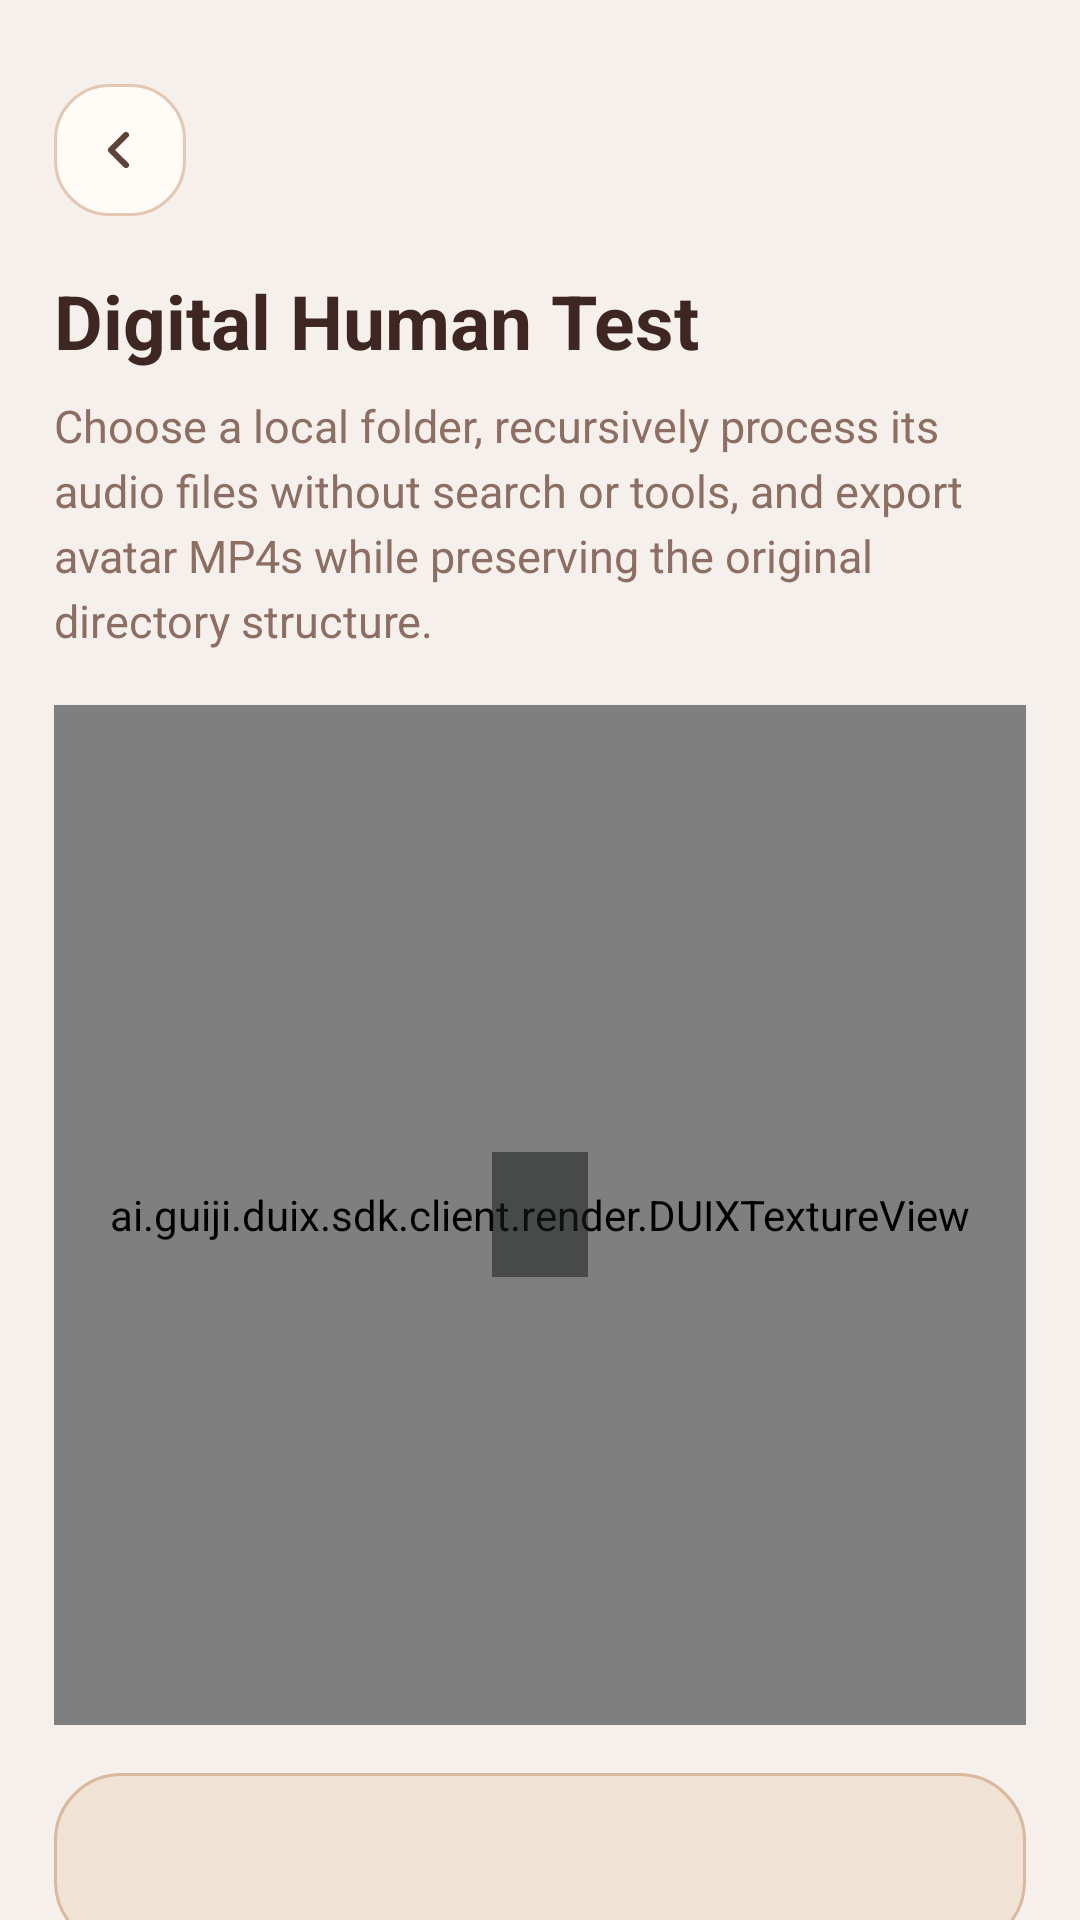

Icons on this 1080px x 1920px Android screen, each with the point to tap as [x,y]:
Back: [120,150]
